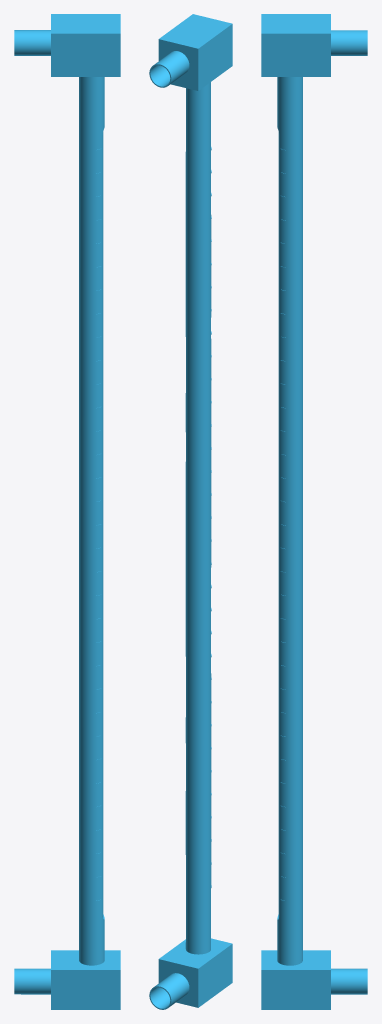
The picture shows the model from 3 angles, left to right: view 1: azimuth 90°, elevation 25°; view 2: azimuth 150°, elevation 25°; view 3: azimuth 270°, elevation 25°; orthographic projection.
Bounding box in the file's own units: 78.25 × 1808 × 179.
